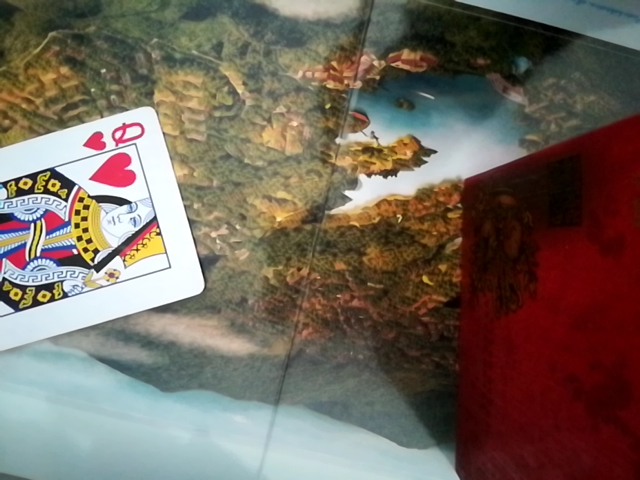hx q: (2, 105, 209, 369)
